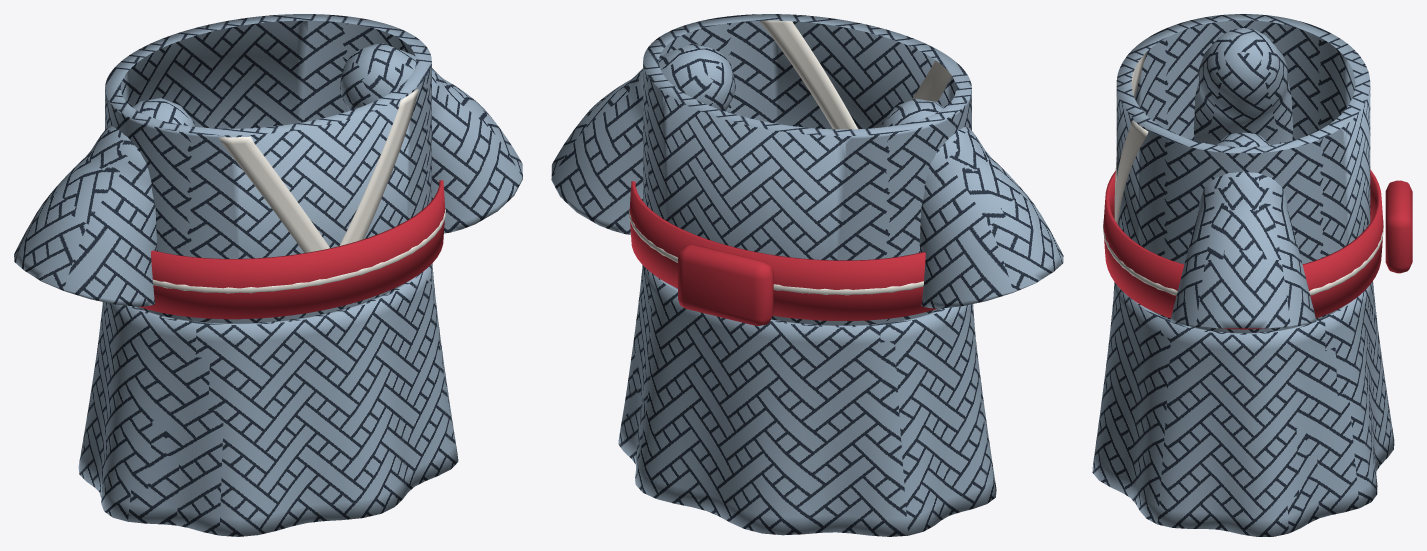
Rendered from kimono2.fbx.
3 views of the same model, side by side, from view 1: azimuth 30°, elevation 25°; view 2: azimuth 150°, elevation 25°; view 3: azimuth 270°, elevation 25° (orthographic). The views are drawn at different scales.
Parts seen in each view (by area): view 1: kimono2; view 2: kimono2; view 3: kimono2.
Boxes of the visible parts, <box> form: kimono2: <box>14,14,522,536</box>; kimono2: <box>551,14,1063,536</box>; kimono2: <box>1092,14,1412,536</box>.
Size of the model in its own units: 1.4 by 1.07 by 0.8305.
3 materials, 1 textured.
